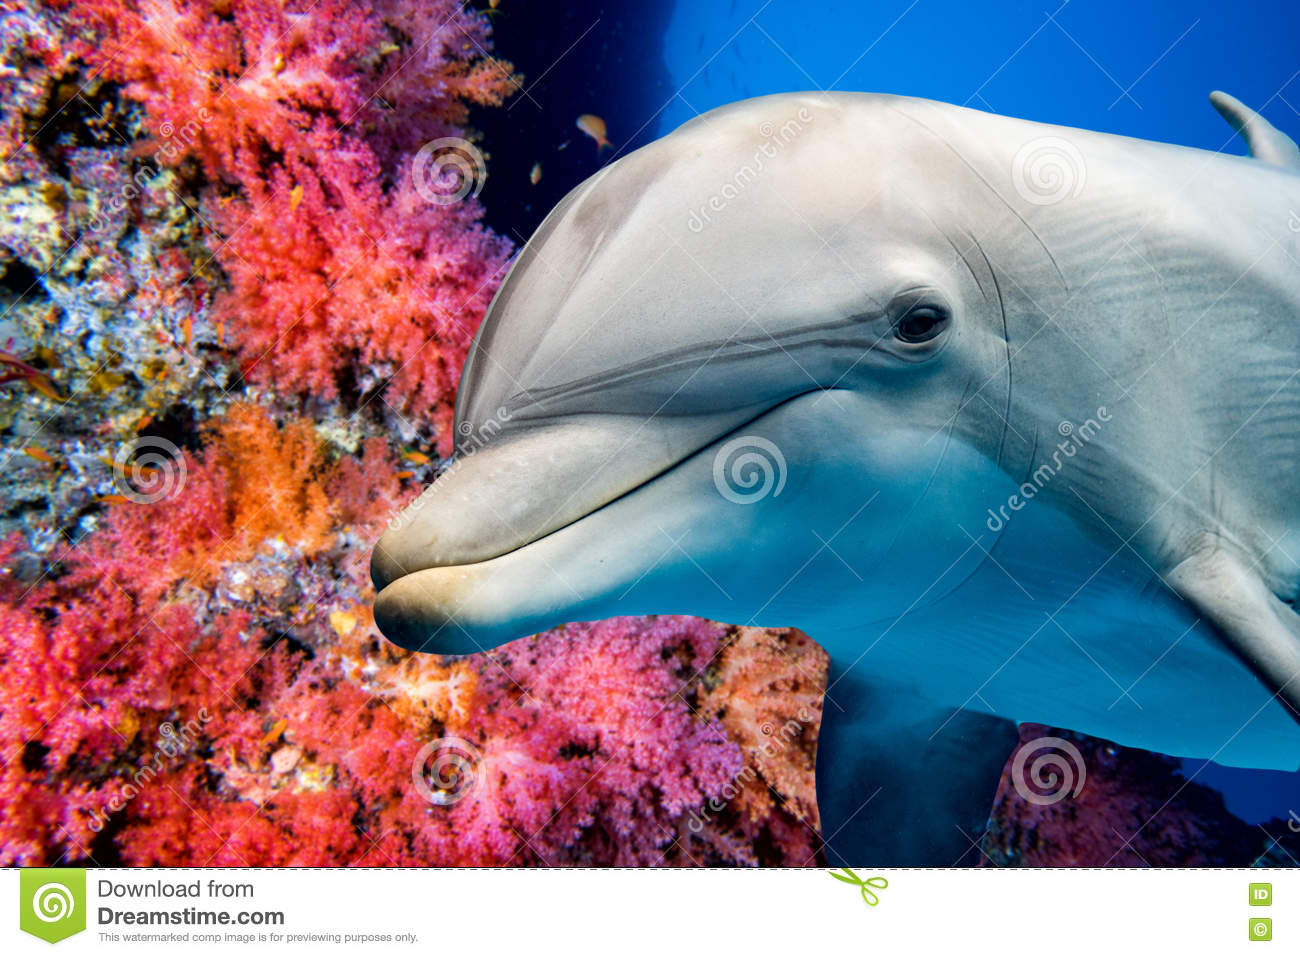dolphin: (355, 79, 1299, 785)
